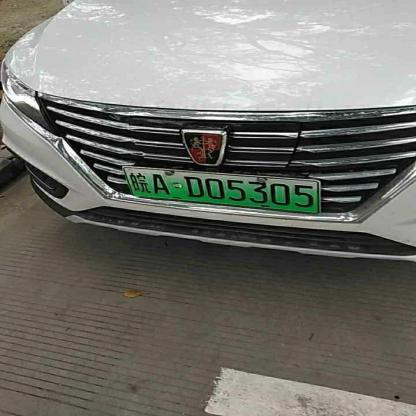lp: (124, 166, 319, 213)
